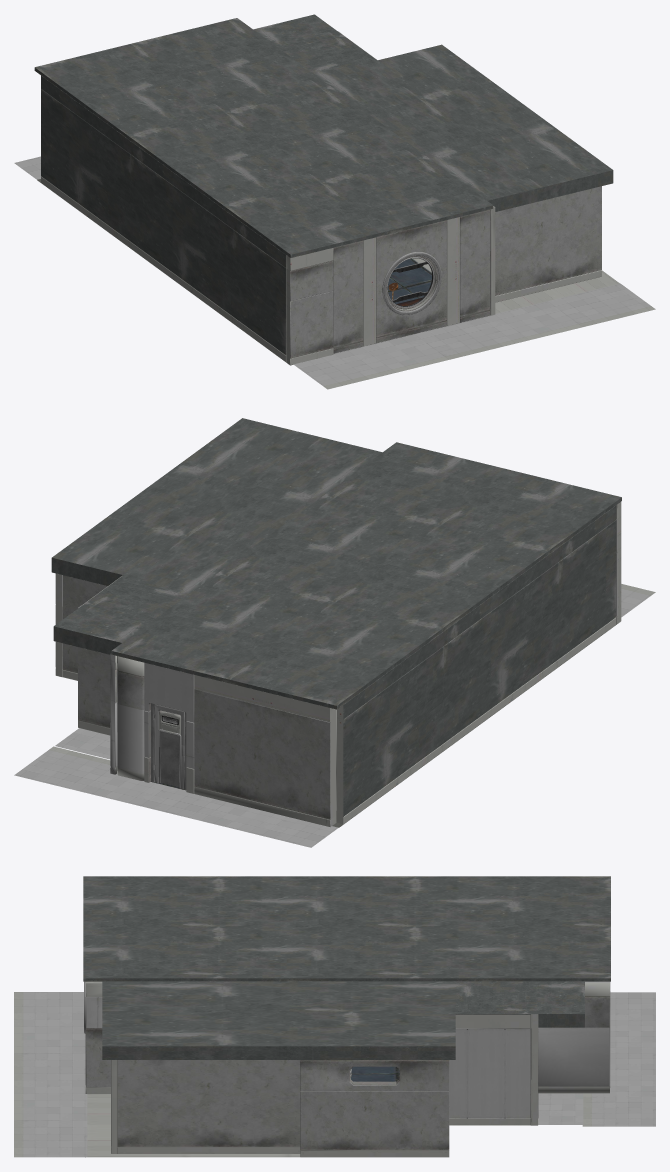
Rendered from main-draco.glb.
3 views of the same model, one above another, from view 1: azimuth 30°, elevation 25°; view 2: azimuth 150°, elevation 25°; view 3: azimuth 270°, elevation 25° (orthographic). The views are drawn at different scales.
Parts seen in each view (by area): view 1: KB3D_CPI_IntApartments.2877, KB3D_CPI_IntApartments.646, KB3D_CPI_IntApartments.647, KB3D_CPI_IntApartments.013, KB3D_CPI_IntApartments.657, KB3D_CPI_IntApartments.654, KB3D_CPI_IntApartments.2879, KB3D_CPI_IntApartments.649, KB3D_CPI_IntApartments.655; view 2: KB3D_CPI_IntApartments.2877, KB3D_CPI_IntApartments.646, KB3D_CPI_IntApartments.665, KB3D_CPI_IntApartments.005, KB3D_CPI_IntApartments.664, KB3D_CPI_IntApartments.666, KB3D_CPI_IntApartments.661, KB3D_CPI_IntApartments.667, KB3D_CPI_IntApartments.659, KB3D_CPI_IntApartments.2879, KB3D_CPI_IntApartments.2689, KB3D_CPI_IntApartments.663 (+3 smaller); view 3: KB3D_CPI_IntApartments.2877, KB3D_CPI_IntApartments.008, KB3D_CPI_IntApartments.658, KB3D_CPI_IntApartments.013, KB3D_CPI_IntApartments.661, KB3D_CPI_IntApartments.005, KB3D_CPI_IntApartments.663, KB3D_CPI_IntApartments.2879, KB3D_CPI_IntApartments.655, KB3D_CPI_IntApartments.657.
Boxes of the visible parts, box(x1,y1,x2,y2) form: KB3D_CPI_IntApartments.2877: box(34, 14, 613, 257); KB3D_CPI_IntApartments.646: box(41, 75, 286, 362); KB3D_CPI_IntApartments.647: box(333, 209, 490, 353); KB3D_CPI_IntApartments.013: box(293, 283, 655, 389); KB3D_CPI_IntApartments.657: box(495, 186, 601, 302); KB3D_CPI_IntApartments.654: box(286, 248, 333, 365); KB3D_CPI_IntApartments.2879: box(37, 179, 619, 365); KB3D_CPI_IntApartments.649: box(382, 252, 441, 315); KB3D_CPI_IntApartments.655: box(490, 206, 495, 315); KB3D_CPI_IntApartments.2877: box(51, 418, 621, 709); KB3D_CPI_IntApartments.646: box(337, 505, 616, 824); KB3D_CPI_IntApartments.665: box(194, 675, 336, 826); KB3D_CPI_IntApartments.005: box(14, 746, 338, 847); KB3D_CPI_IntApartments.664: box(117, 656, 144, 780); KB3D_CPI_IntApartments.666: box(144, 662, 194, 793); KB3D_CPI_IntApartments.661: box(78, 575, 122, 735); KB3D_CPI_IntApartments.667: box(151, 703, 186, 789); KB3D_CPI_IntApartments.659: box(63, 575, 107, 680); KB3D_CPI_IntApartments.2879: box(55, 624, 616, 827); KB3D_CPI_IntApartments.2689: box(161, 732, 179, 786); KB3D_CPI_IntApartments.663: box(110, 653, 117, 774); KB3D_CPI_IntApartments.2877: box(83, 876, 610, 1059); KB3D_CPI_IntApartments.008: box(117, 1060, 300, 1153); KB3D_CPI_IntApartments.658: box(300, 1060, 449, 1157); KB3D_CPI_IntApartments.013: box(14, 992, 87, 1157); KB3D_CPI_IntApartments.661: box(449, 1014, 538, 1125); KB3D_CPI_IntApartments.005: box(582, 992, 655, 1126); KB3D_CPI_IntApartments.663: box(538, 981, 610, 1093); KB3D_CPI_IntApartments.2879: box(85, 1066, 583, 1157); KB3D_CPI_IntApartments.655: box(85, 981, 110, 1094); KB3D_CPI_IntApartments.657: box(111, 1060, 117, 1153).
Size of the model in its own units: 19.81 by 6.39 by 32.23.
102 materials, 95 textured.
